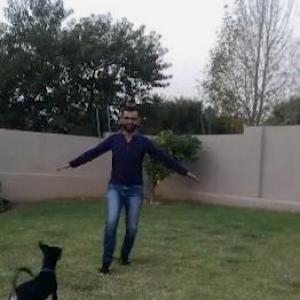land: (52, 73, 218, 297)
